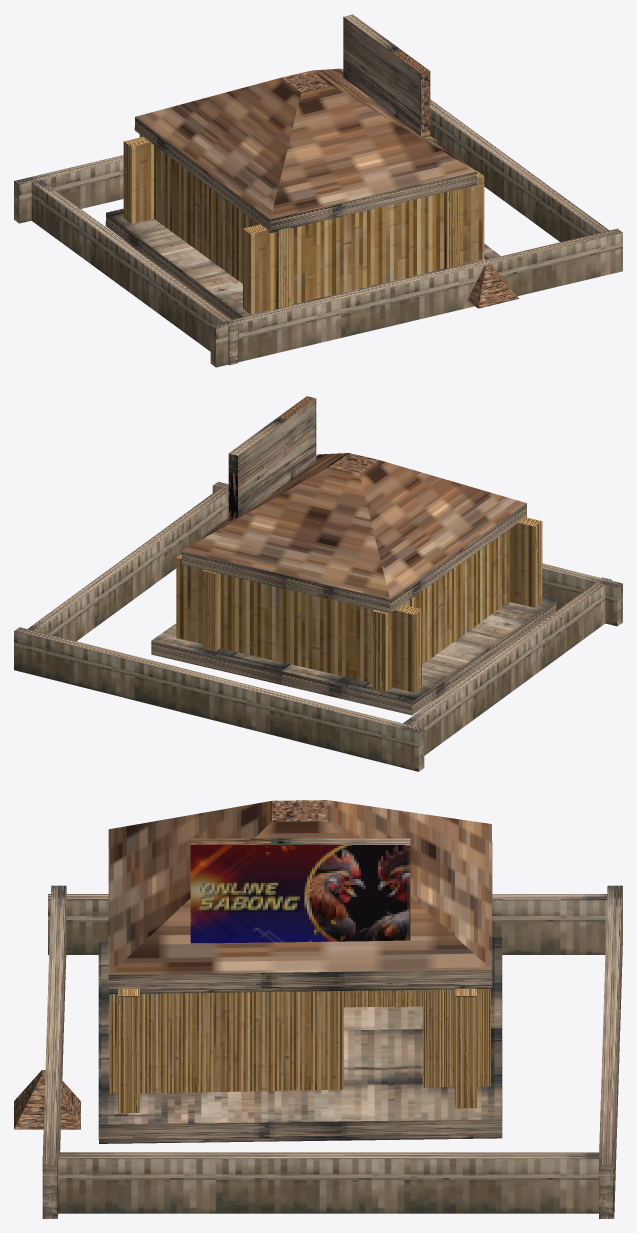
Rendered from Sabungan.fbx.
3 renders of one model, top to bottom at view 1: azimuth 30°, elevation 25°; view 2: azimuth 150°, elevation 25°; view 3: azimuth 270°, elevation 25°, orthographic. The views are drawn at different scales.
Visible parts, largest first — view 1: Cube.005, Cube.011; view 2: Cube.005, Cube.011; view 3: Cube.005, Cube.011.
Boxes of the visible parts, left/top/right/bottom form: Cube.005: left=105, top=14, right=518, bottom=319; Cube.011: left=14, top=99, right=622, bottom=367; Cube.005: left=151, top=396, right=556, bottom=715; Cube.011: left=14, top=481, right=622, bottom=771; Cube.005: left=14, top=800, right=502, bottom=1143; Cube.011: left=42, top=885, right=622, bottom=1218.
Bounding box in the file's own units: 8533 × 3955 × 7877.
Materials: 4 (4 with a texture image).
